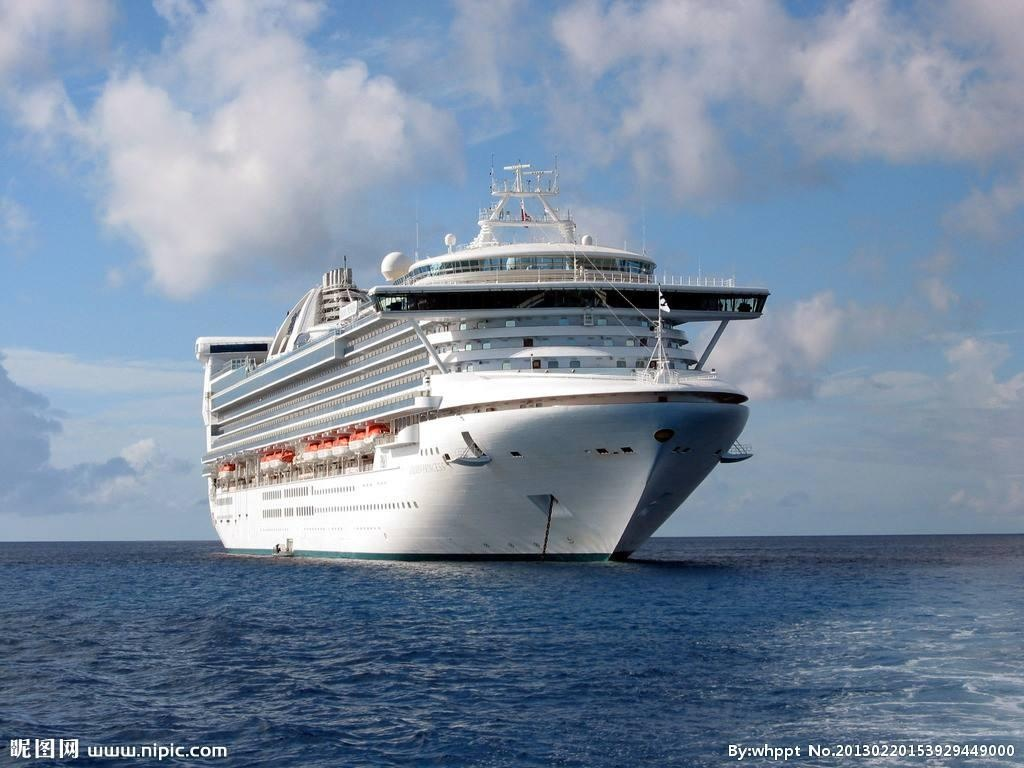youlun: (200, 152, 773, 562)
